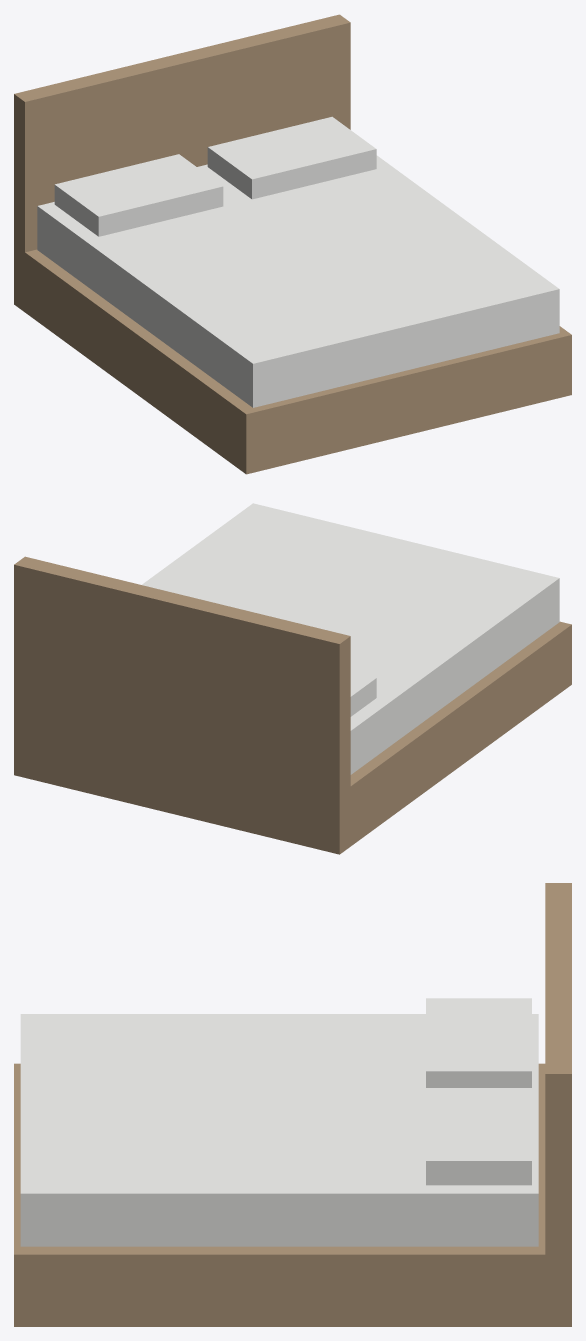
File: bed_queen.glb
3 views of the same model, one above another, from view 1: azimuth 30°, elevation 25°; view 2: azimuth 150°, elevation 25°; view 3: azimuth 270°, elevation 25° (orthographic). The views are drawn at different scales.
Size of the model in its own units: 1700 by 1050 by 2100.
